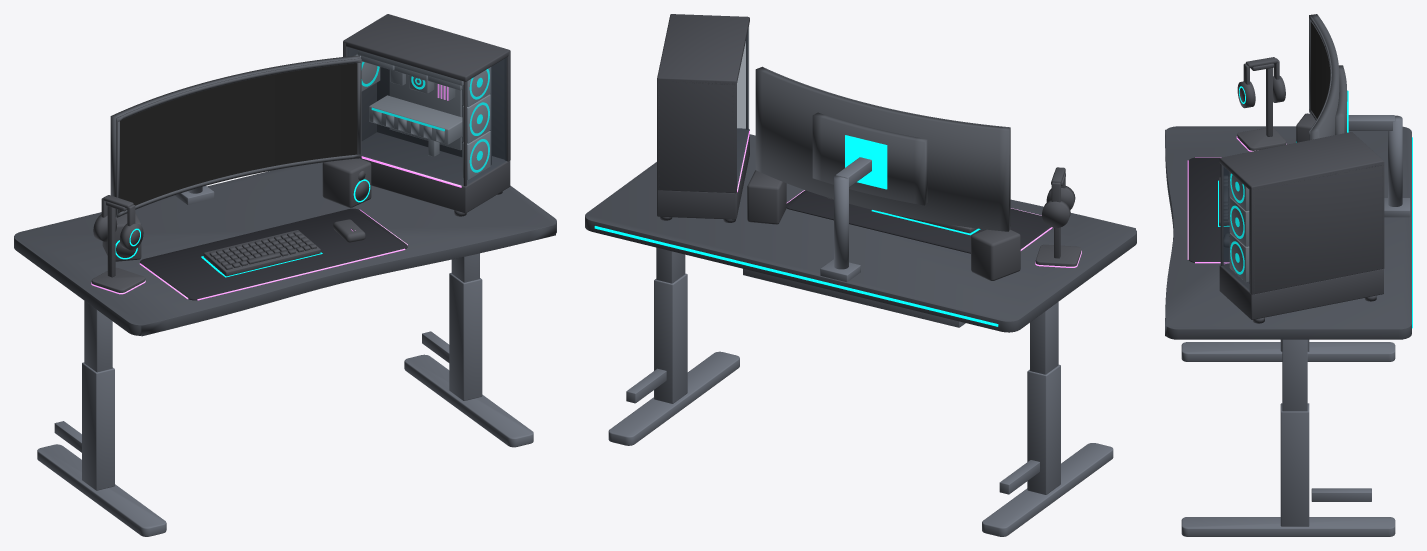
The model's file is gamer_desk.glb.
3 views of the same model, side by side, from view 1: azimuth 30°, elevation 25°; view 2: azimuth 150°, elevation 25°; view 3: azimuth 270°, elevation 25° (orthographic). The views are drawn at different scales.
Parts seen in each view (by area): view 1: desk-top, ultrawide-screen, desk-frame, pc-case, pc-glass, peripherals, desk-mat, pc-internals, monitor-body, rgb-cyan, rgb-magenta; view 2: desk-top, monitor-body, desk-frame, pc-case, peripherals, desk-mat, rgb-cyan, pc-glass; view 3: pc-case, desk-top, desk-frame, desk-mat, peripherals, pc-glass, monitor-body, pc-internals, ultrawide-screen, rgb-cyan, rgb-magenta.
Boxes of the visible parts, left/top/right/bottom form: desk-top: left=14, top=162, right=556, bottom=336; ultrawide-screen: left=120, top=63, right=357, bottom=212; desk-frame: left=37, top=186, right=533, bottom=536; pc-case: left=343, top=14, right=510, bottom=216; pc-glass: left=347, top=47, right=506, bottom=185; peripherals: left=91, top=158, right=371, bottom=292; desk-mat: left=140, top=208, right=407, bottom=300; pc-internals: left=355, top=50, right=490, bottom=180; monitor-body: left=110, top=55, right=361, bottom=217; rgb-cyan: left=115, top=62, right=489, bottom=277; rgb-magenta: left=91, top=84, right=461, bottom=300; desk-top: left=585, top=134, right=1136, bottom=332; monitor-body: left=755, top=66, right=1010, bottom=231; desk-frame: left=608, top=157, right=1113, bottom=536; pc-case: left=657, top=14, right=749, bottom=222; peripherals: left=747, top=167, right=1081, bottom=280; desk-mat: left=786, top=190, right=1050, bottom=253; rgb-cyan: left=594, top=135, right=998, bottom=326; pc-glass: left=737, top=28, right=748, bottom=185; pc-case: left=1219, top=132, right=1384, bottom=323; desk-top: left=1165, top=126, right=1411, bottom=339; desk-frame: left=1181, top=114, right=1410, bottom=536; desk-mat: left=1188, top=157, right=1229, bottom=262; peripherals: left=1219, top=57, right=1315, bottom=247; pc-glass: left=1222, top=166, right=1249, bottom=290; monitor-body: left=1309, top=14, right=1347, bottom=140; pc-internals: left=1229, top=172, right=1249, bottom=282; ultrawide-screen: left=1310, top=21, right=1330, bottom=118; rgb-cyan: left=1218, top=86, right=1412, bottom=328; rgb-magenta: left=1187, top=136, right=1286, bottom=264.
Bounding box in the file's own units: 144 × 118 × 74.28.
